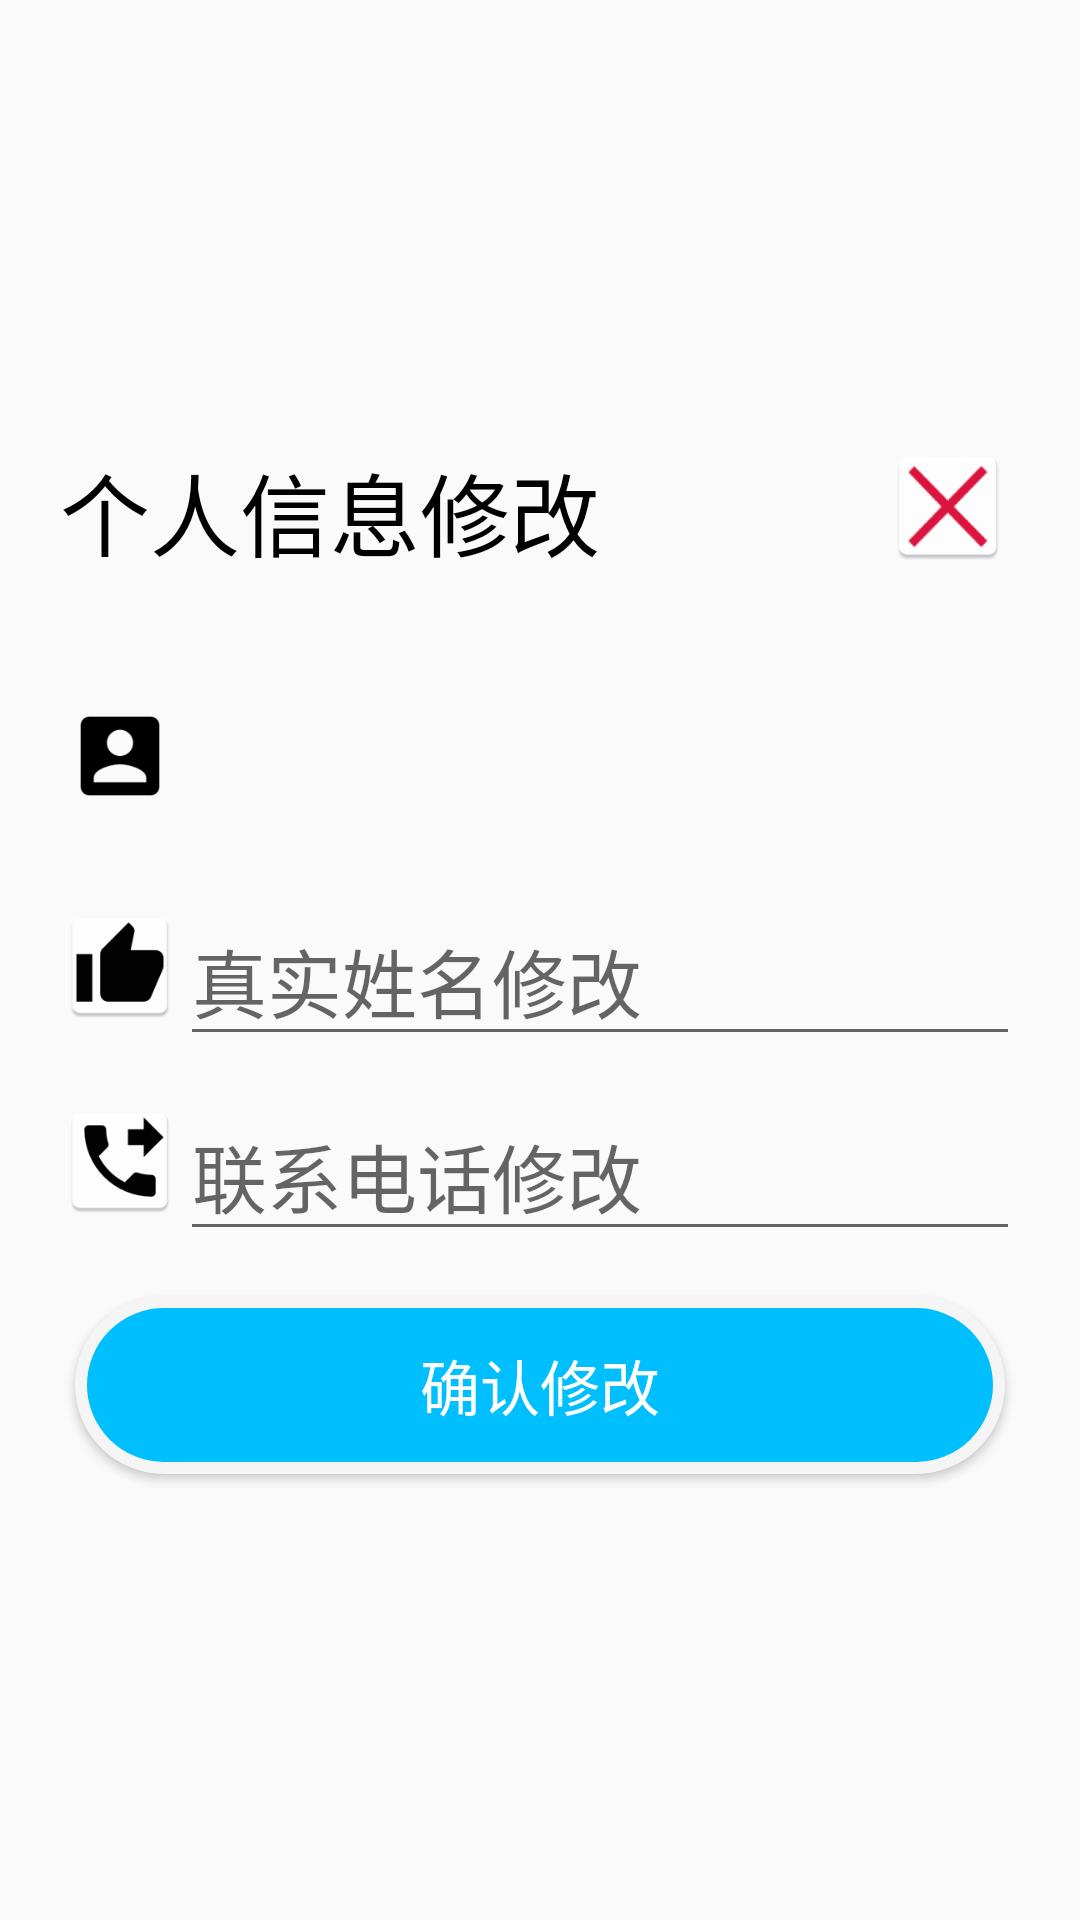

Locate icon controls on the screen. Image size 1080px x 1920px, boxes as (x1, y1, x2, y2).
close: (899, 466, 997, 558)
phone update: (73, 1117, 168, 1211)
user: (80, 716, 160, 796)
